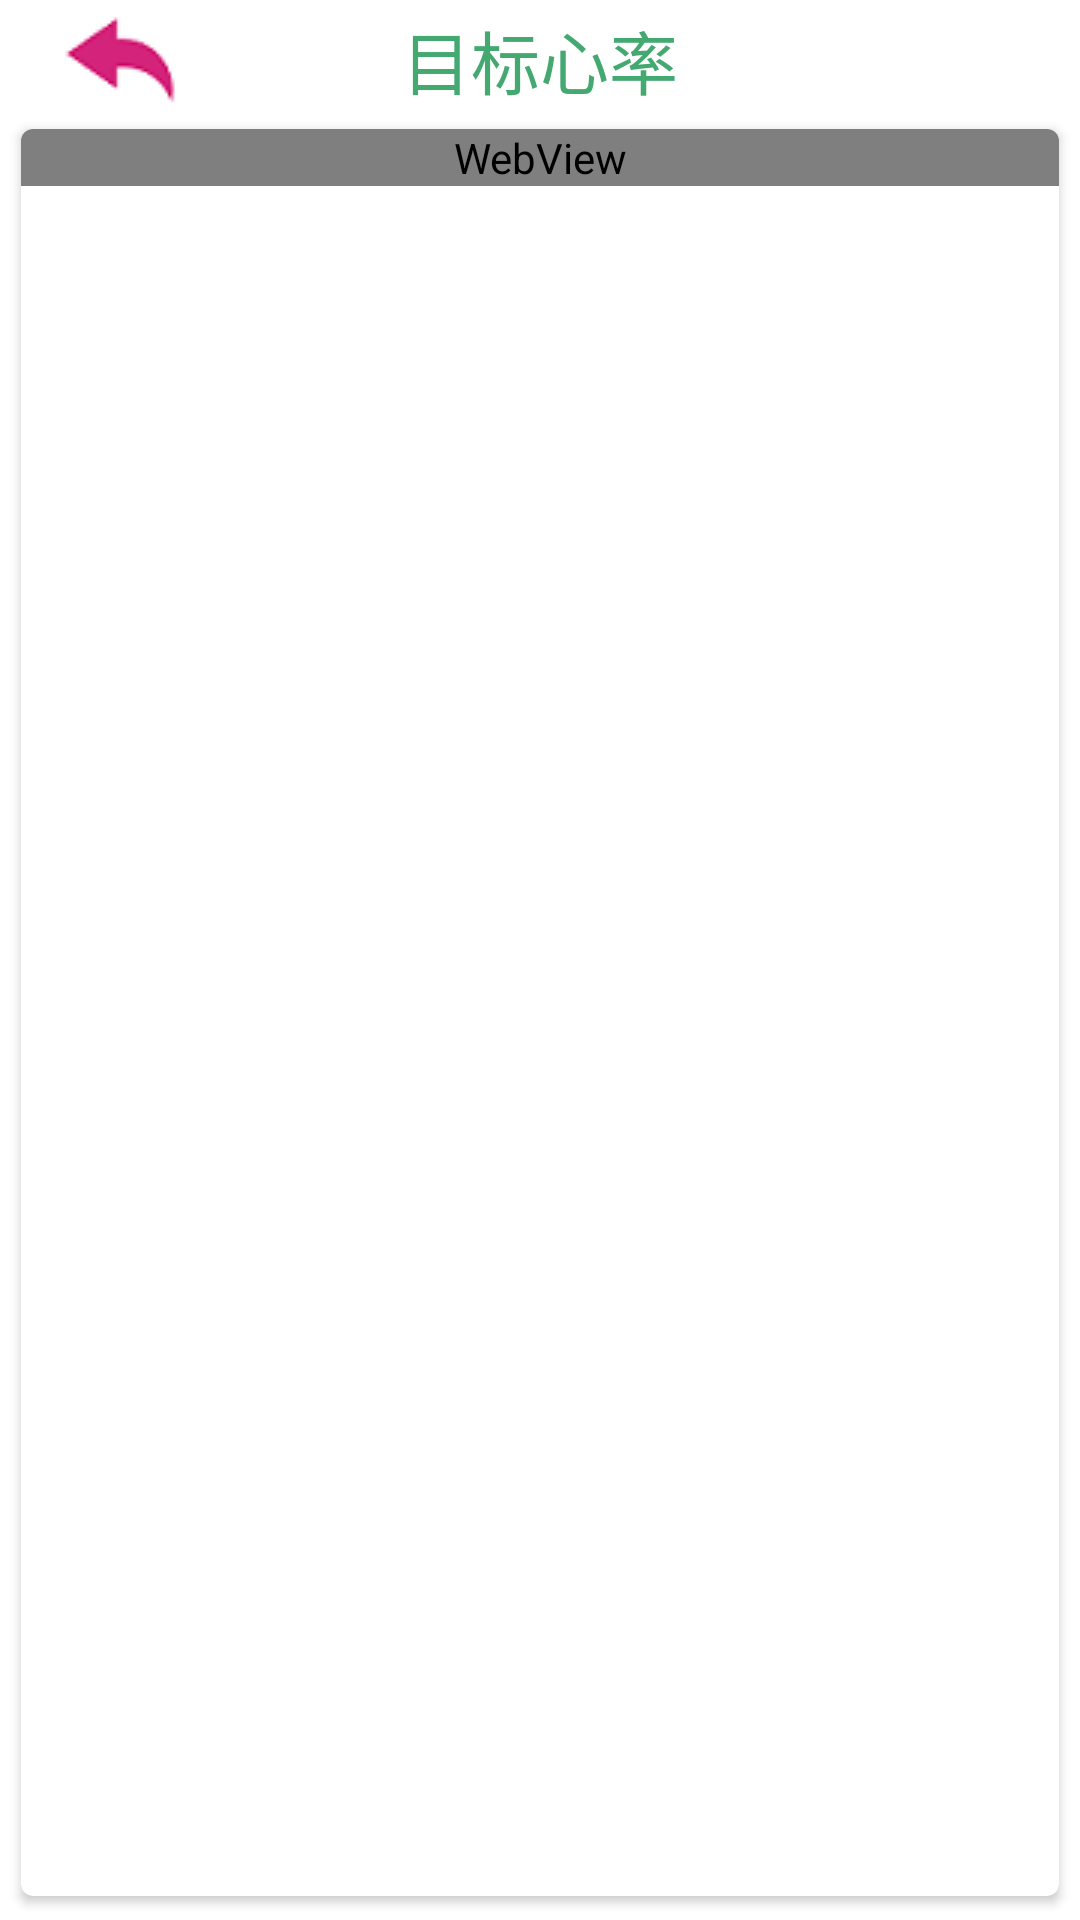

Screen size 1080px×1920px. Icon name, then its center in pixels as (x,y):
return: (120,59)
